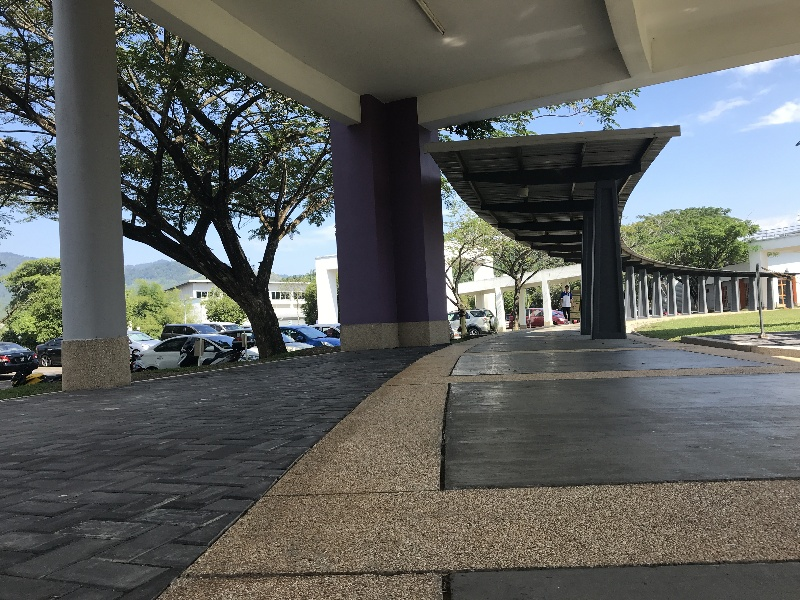Block D Pillar 5: (6, 1, 797, 560)
pillar: (317, 87, 463, 362), (48, 4, 141, 397), (576, 173, 634, 351)
